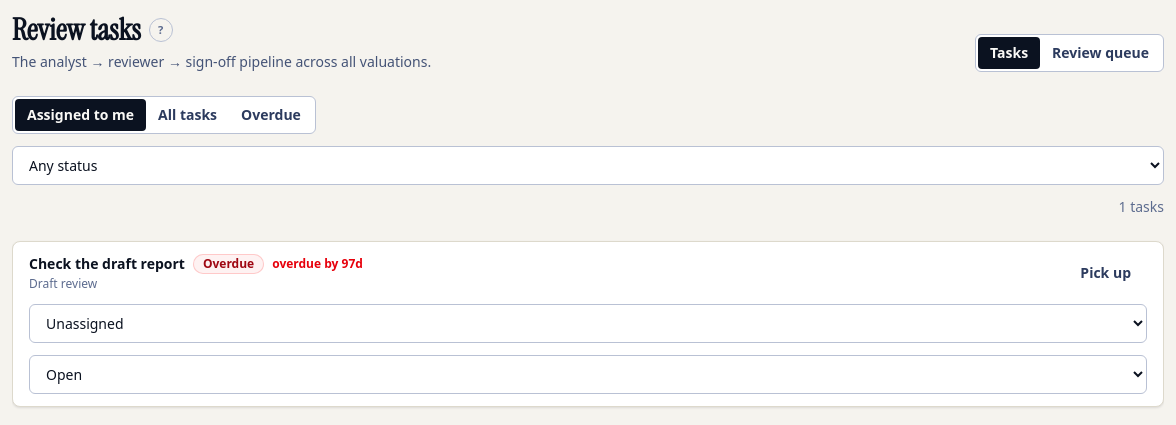
Test: TasksPage › will not send a valuation back with no explanation
Click the button "Review queue" at (1101, 53), box [1040,37,1161,69]
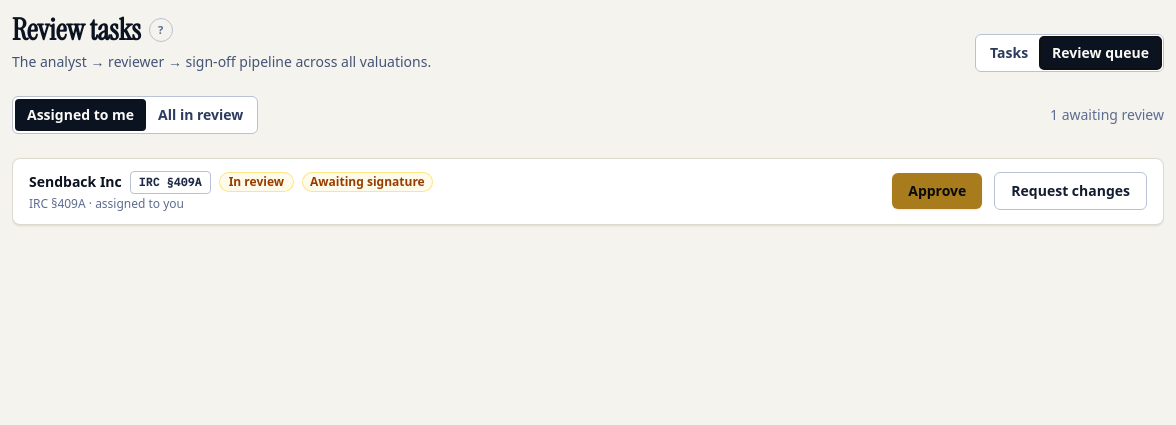
Click the button "Request changes" at (1071, 191), box [994,172,1147,210]
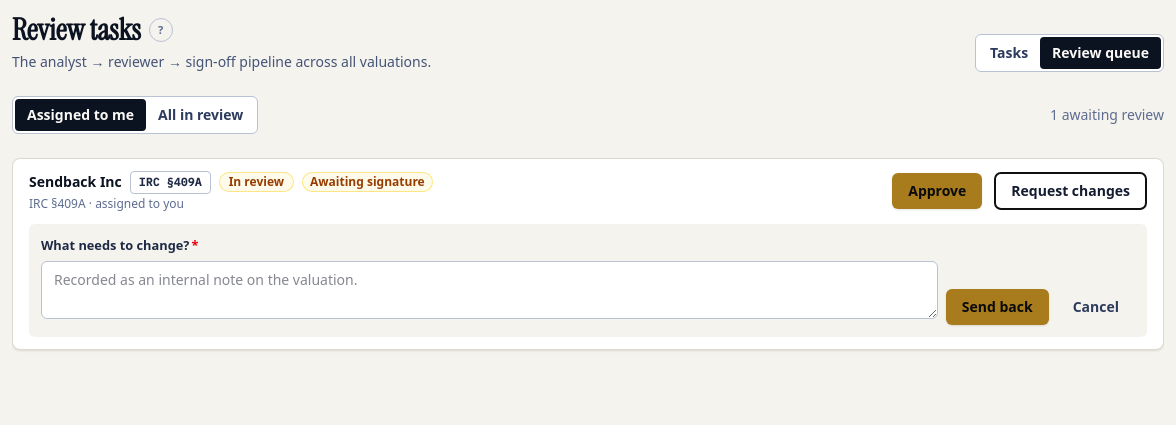
Click the button "Send back" at (997, 307), box [946,289,1049,325]
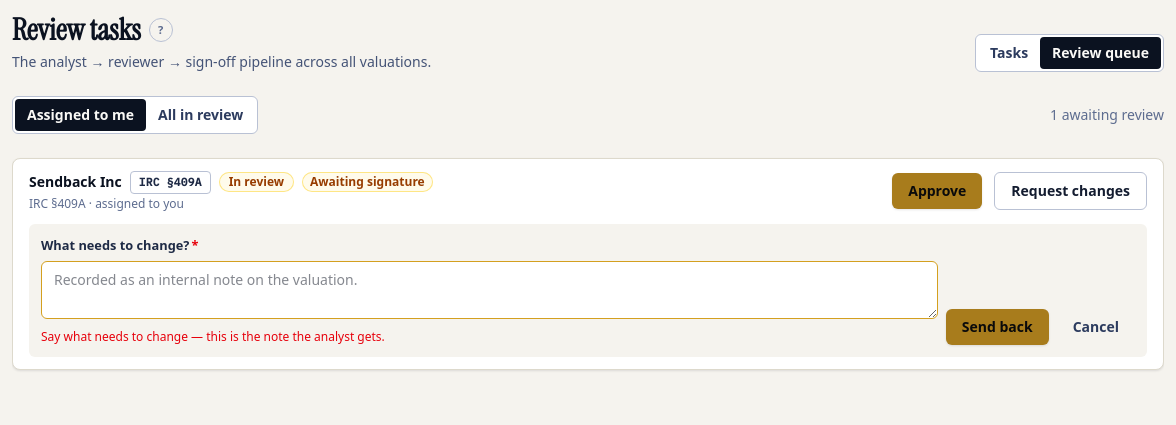
Expected: the text "Say what needs to change — this is the note the analyst gets." is shown, [41,328,385,345]
